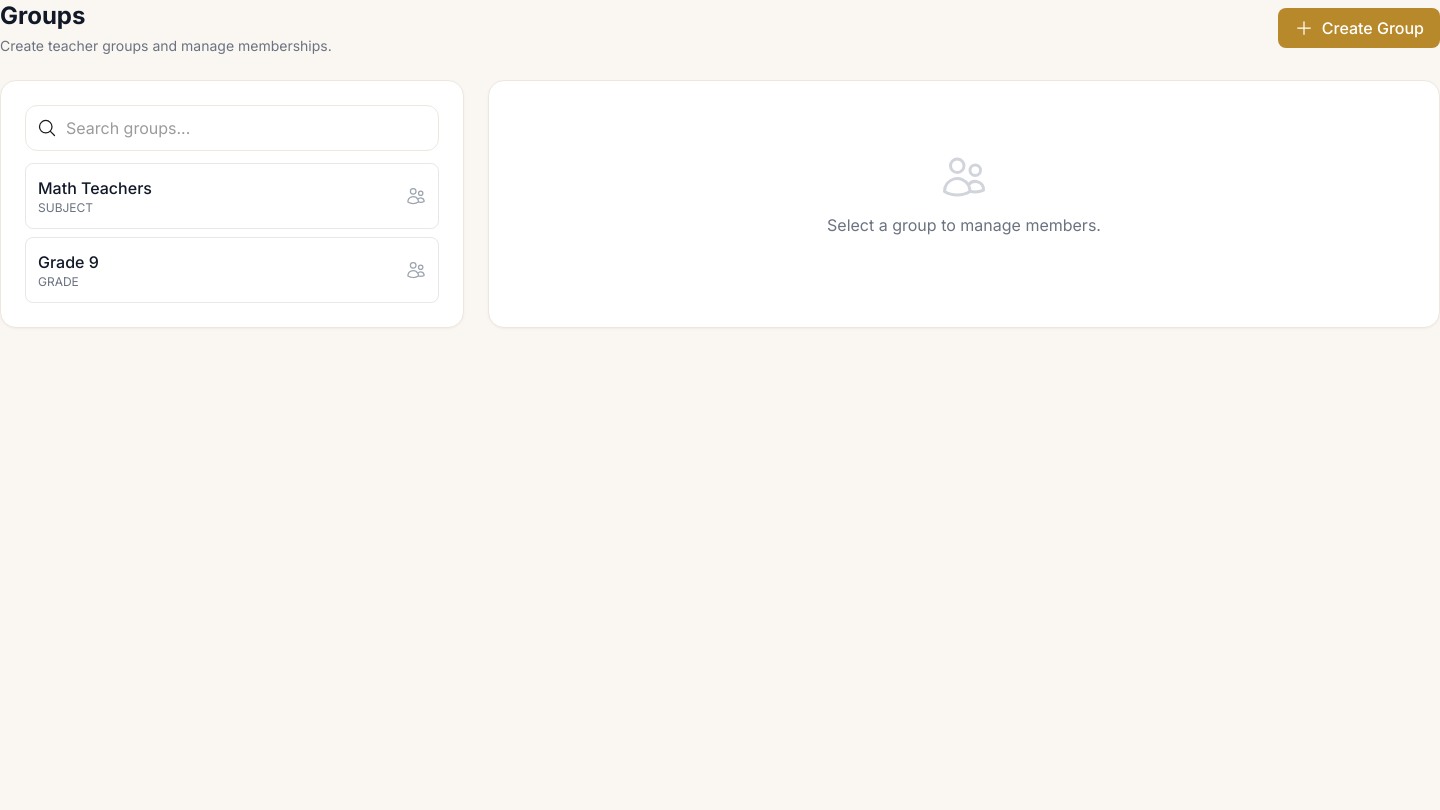
it: GroupsPage › delete group › Delete button opens ConfirmDialog with "Delete Group" title
Click the button "Math Teachers SUBJECT": [95, 188] box [25,163,439,229]
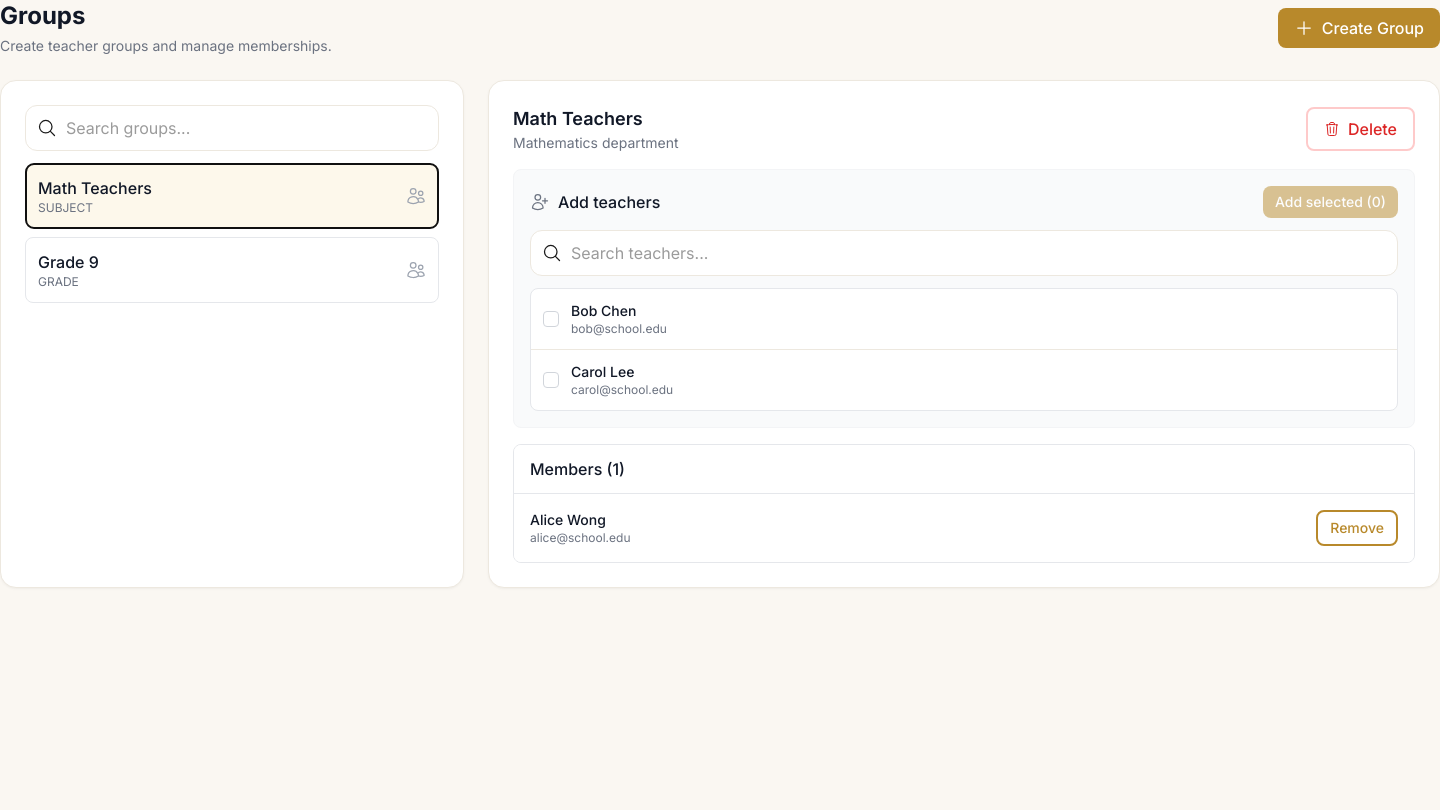
Expected: the heading "Math Teachers" is shown, [513,108,643,129]
Click the button "Delete": [1360, 129] box [1306,107,1415,151]
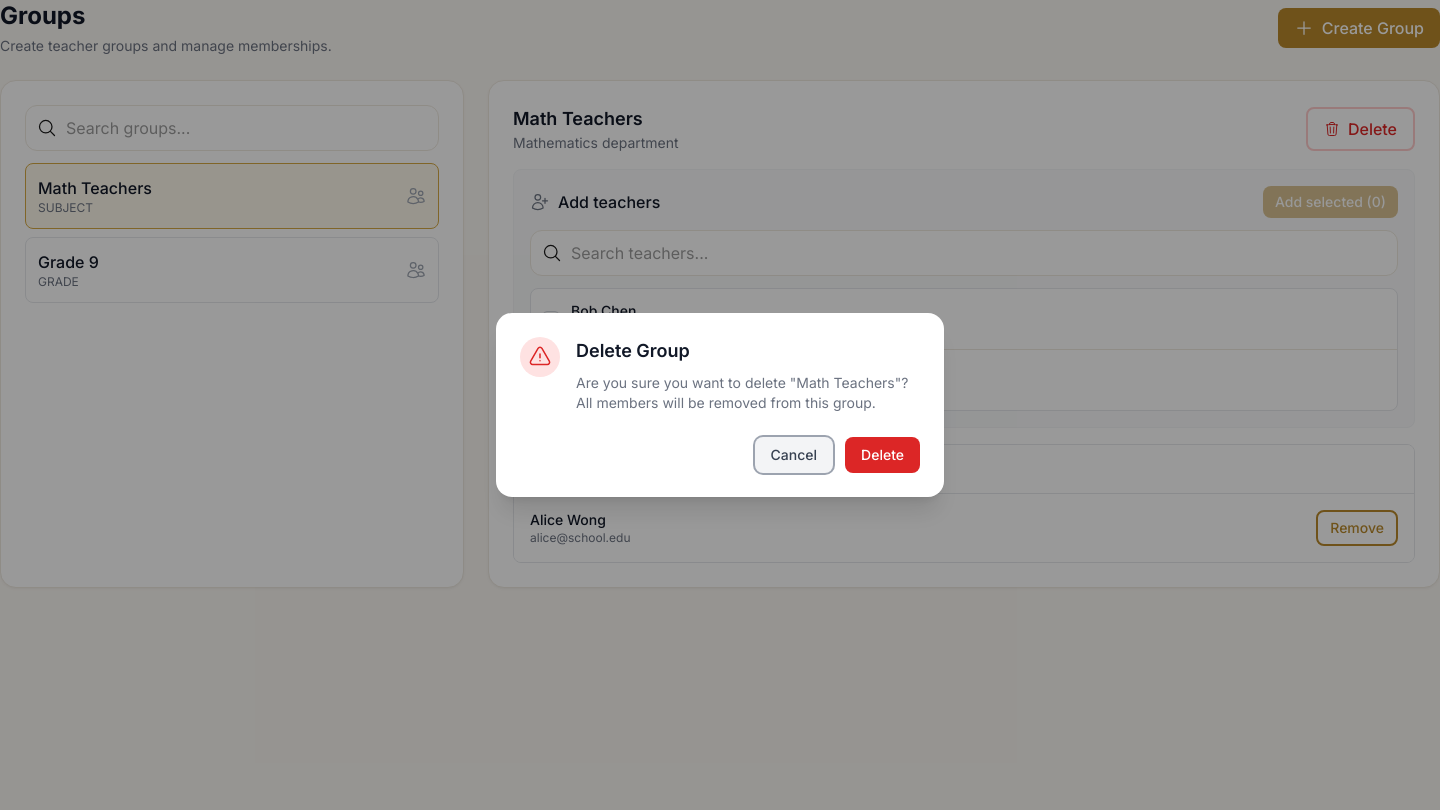
Expected: the heading "Delete Group" is shown, [576,340,690,361]
